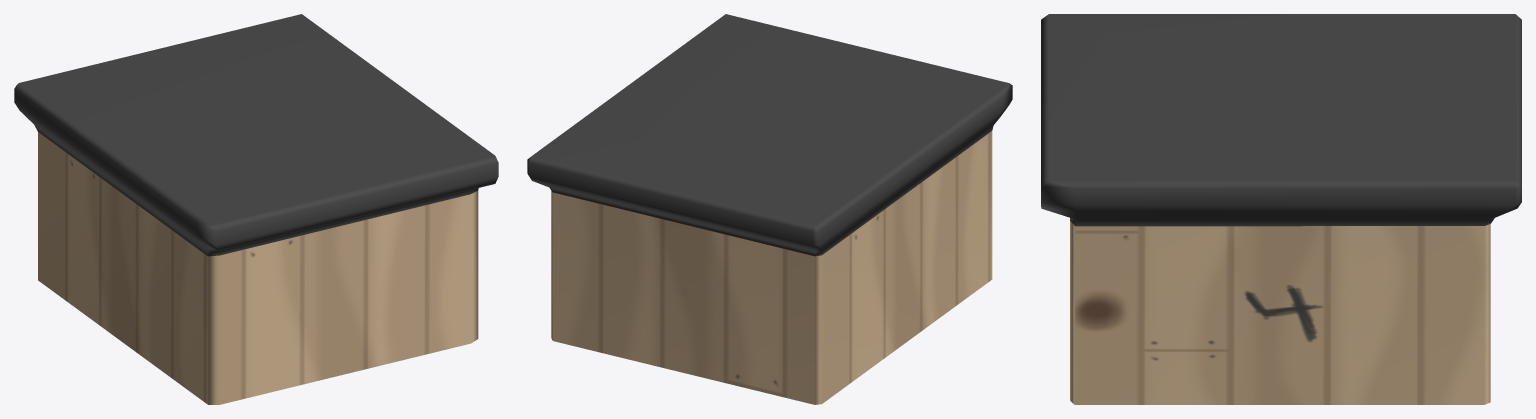
Rendered from pod4.fbx.
3 views of the same model, side by side, from view 1: azimuth 30°, elevation 25°; view 2: azimuth 150°, elevation 25°; view 3: azimuth 270°, elevation 25° (orthographic). The views are drawn at different scales.
Parts seen in each view (by area): view 1: pCube2; view 2: pCube2; view 3: pCube2.
Boxes of the visible parts, x1,y1,x2,y2 form: pCube2: [14, 14, 498, 404]; pCube2: [527, 14, 1012, 404]; pCube2: [1041, 14, 1521, 404].
Bounding box in the file's own units: 1.08 × 0.673 × 1.28.
Materials: 1 (1 with a texture image).
